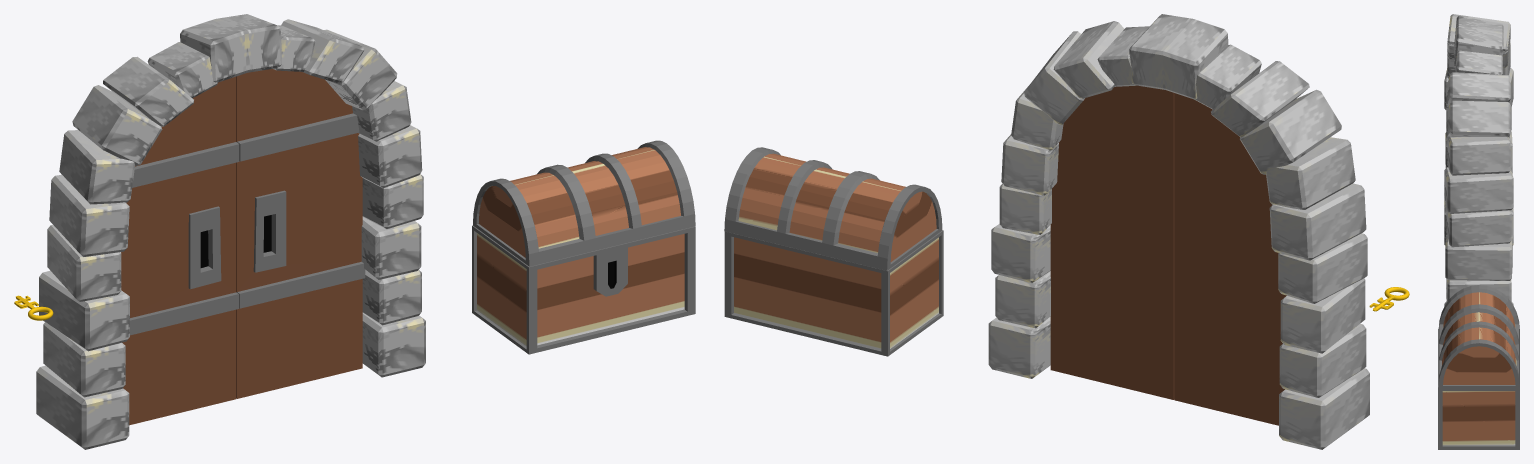
File: dungeonAssets.fbx
3 renders of one model, left to right at view 1: azimuth 30°, elevation 25°; view 2: azimuth 150°, elevation 25°; view 3: azimuth 270°, elevation 25°, orthographic. The views are drawn at different scales.
Parts seen in each view (by area): view 1: Cube, Cube.004, Cube.001, Cube.002, Cube.003; view 2: Cube, Cube.004, Cube.001, Cube.002, Cube.003; view 3: Cube, Cube.003, Cube.002.
Part boxes in pixels (bbox=[...]): Cube: bbox=[36, 14, 425, 449]; Cube.004: bbox=[236, 69, 365, 398]; Cube.001: bbox=[121, 76, 239, 425]; Cube.002: bbox=[472, 225, 695, 354]; Cube.003: bbox=[473, 140, 695, 266]; Cube: bbox=[988, 14, 1369, 449]; Cube.004: bbox=[1050, 85, 1174, 399]; Cube.001: bbox=[1174, 93, 1286, 425]; Cube.002: bbox=[724, 230, 943, 356]; Cube.003: bbox=[724, 147, 942, 270]; Cube: bbox=[1444, 14, 1513, 306]; Cube.003: bbox=[1438, 285, 1519, 387]; Cube.002: bbox=[1438, 329, 1519, 449].
Size of the model in its own units: 1569 by 870 by 237.
1 material, 1 textured.
